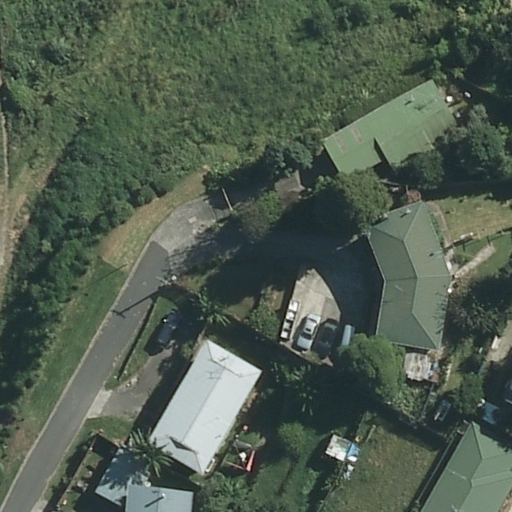DT: (153, 274, 171, 289)
